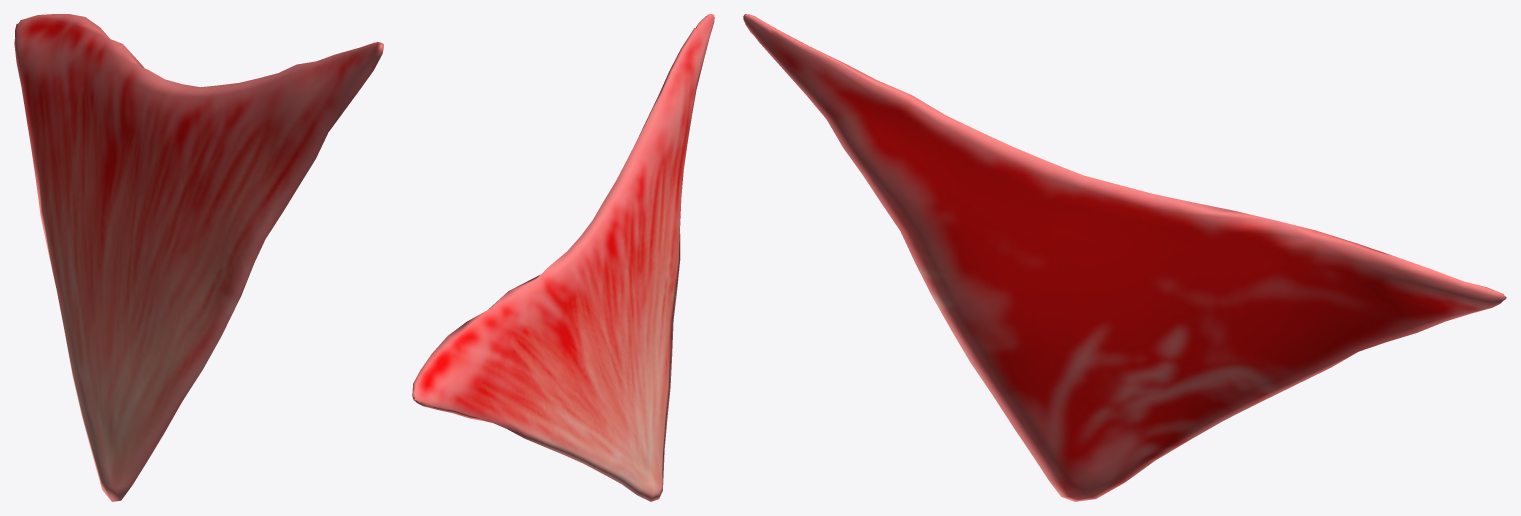
The model's file is Trapezius.glb.
3 renders of one model, left to right at view 1: azimuth 30°, elevation 25°; view 2: azimuth 150°, elevation 25°; view 3: azimuth 270°, elevation 25°, orthographic. The views are drawn at different scales.
Visible parts, largest first — view 1: MuscleTrapezius2.007; view 2: MuscleTrapezius2.007; view 3: MuscleTrapezius2.007.
Part boxes in pixels (x1=…): MuscleTrapezius2.007: x1=14, y1=14, x2=383, y2=501; MuscleTrapezius2.007: x1=412, y1=14, x2=714, y2=501; MuscleTrapezius2.007: x1=743, y1=14, x2=1506, y2=501.
Bounding box in the file's own units: 0.1463 × 0.5216 × 0.6775.
Materials: 1 (1 with a texture image).
